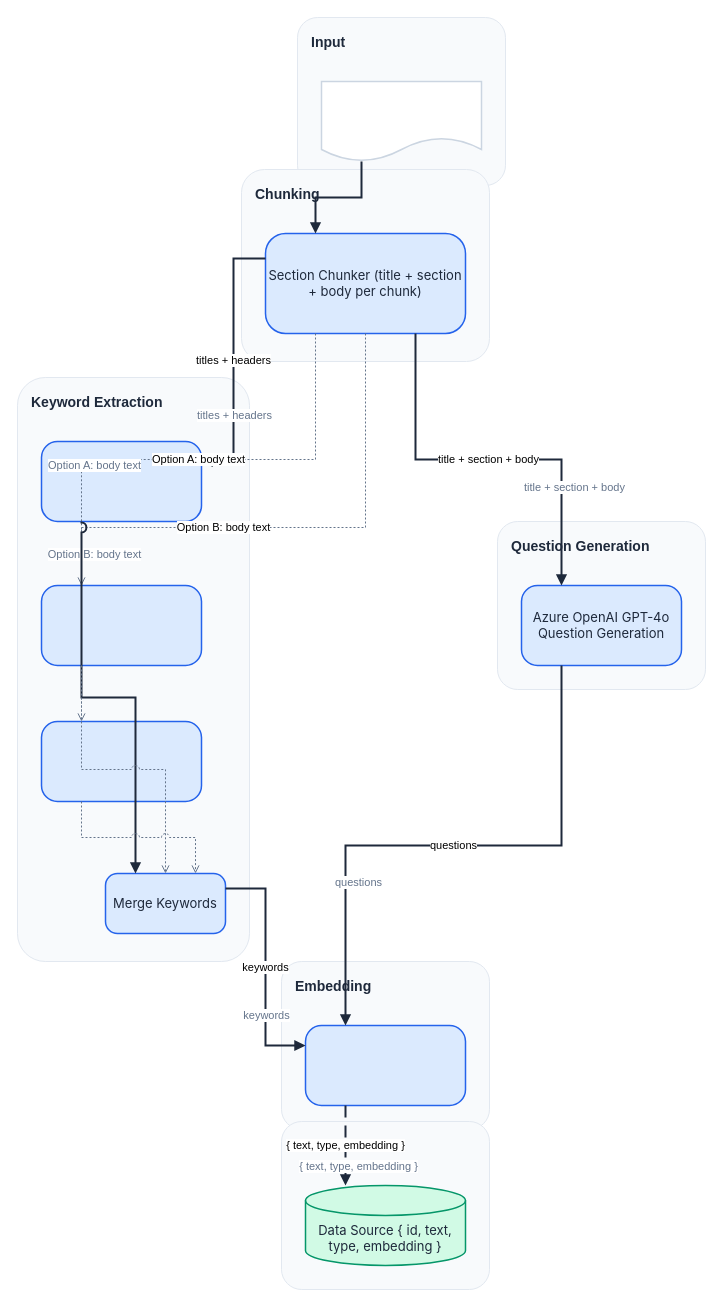
Image size: 723x1307. Some labels were removed from this diagram. The centre of each missing label's shape, as x and y in pixels:
"Azure OpenAI Embedding Generation (text-embedding-3-small)" belongs at (x=385, y=1065).
"Markdown Files (title + section + body)" belongs at (x=401, y=121).
"Option A Azure AI Language (key phrases from body)" belongs at (x=121, y=625).
"Option B LLM Keyword Extraction (via question gen prompt)" belongs at (x=121, y=761).
"Structural Extraction (titles + section headers)" belongs at (x=121, y=481).
